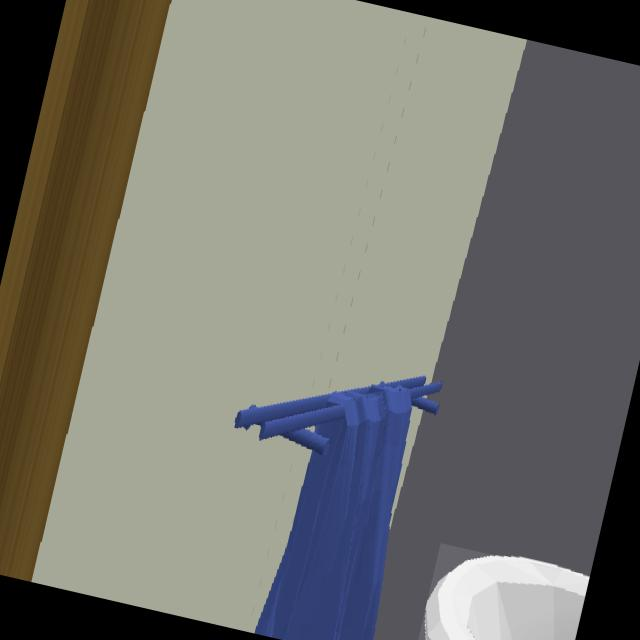bathtube: (425, 556, 588, 640)
